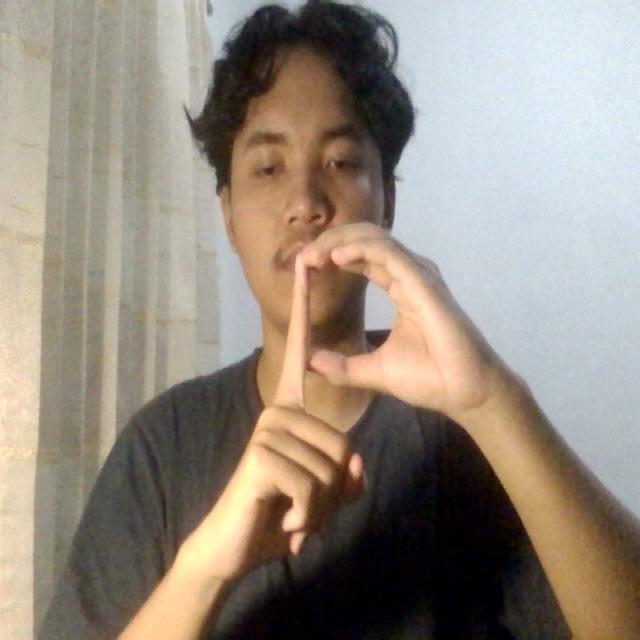D: (216, 211, 471, 572)
